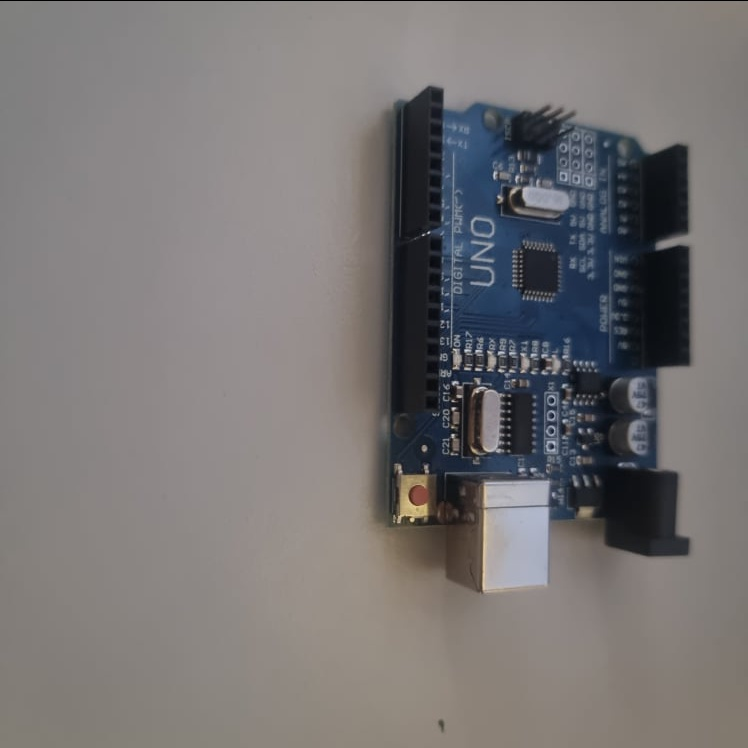UNO R3: (391, 84, 689, 595)
